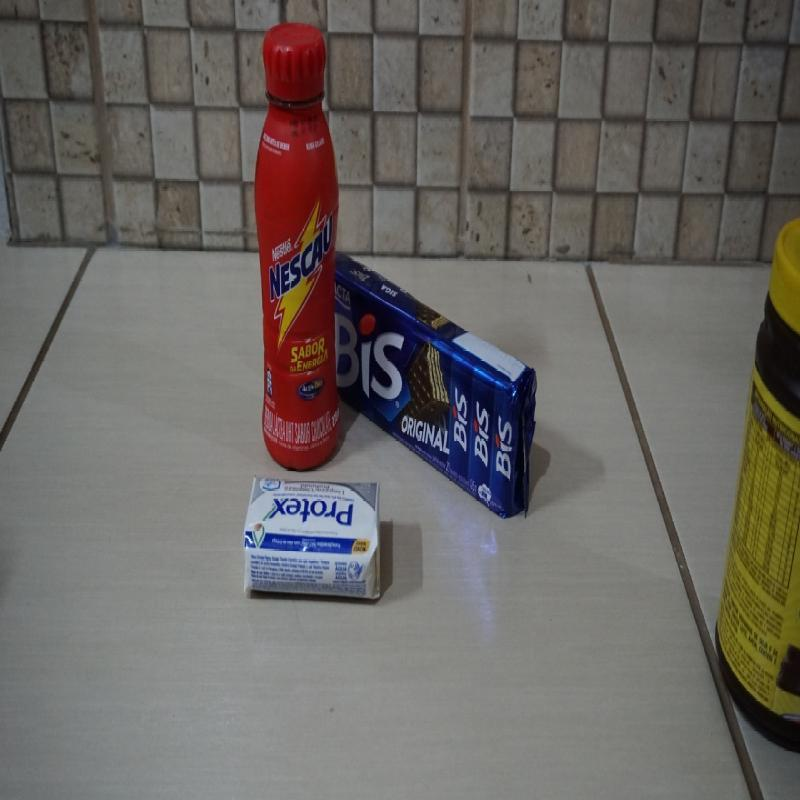Chocolate Milk: (252, 19, 343, 472)
Chocolate Powder: (712, 212, 800, 752)
Soap: (240, 472, 386, 608)
